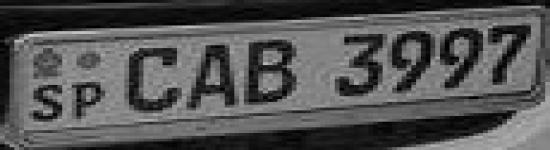3: (332, 30, 389, 101)
7: (486, 19, 534, 88)
9: (435, 22, 485, 94), (388, 27, 436, 97)
B: (244, 35, 305, 109)
C: (122, 44, 187, 115), (184, 41, 242, 112)
P: (69, 80, 107, 121)
S: (28, 82, 68, 126)
